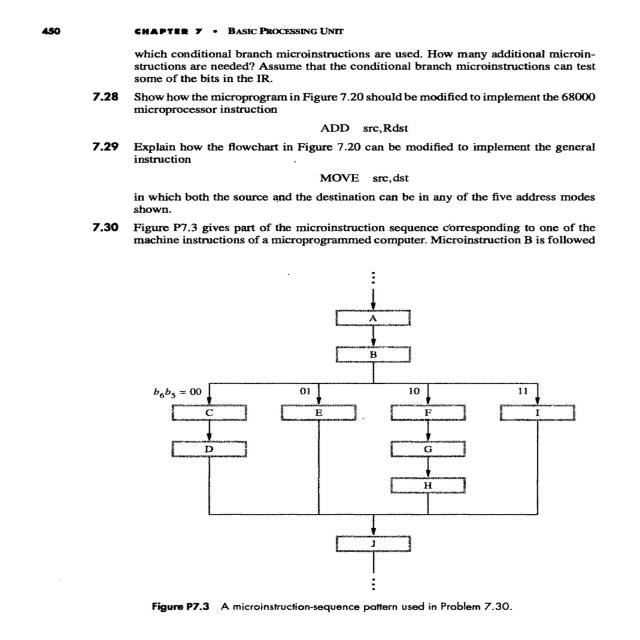diagram: (103, 243, 640, 640)
